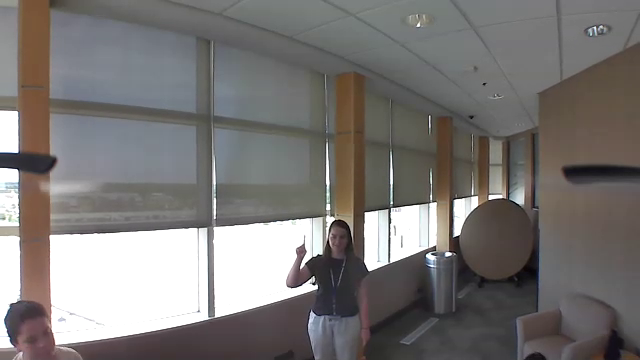up: (293, 233, 308, 260)
